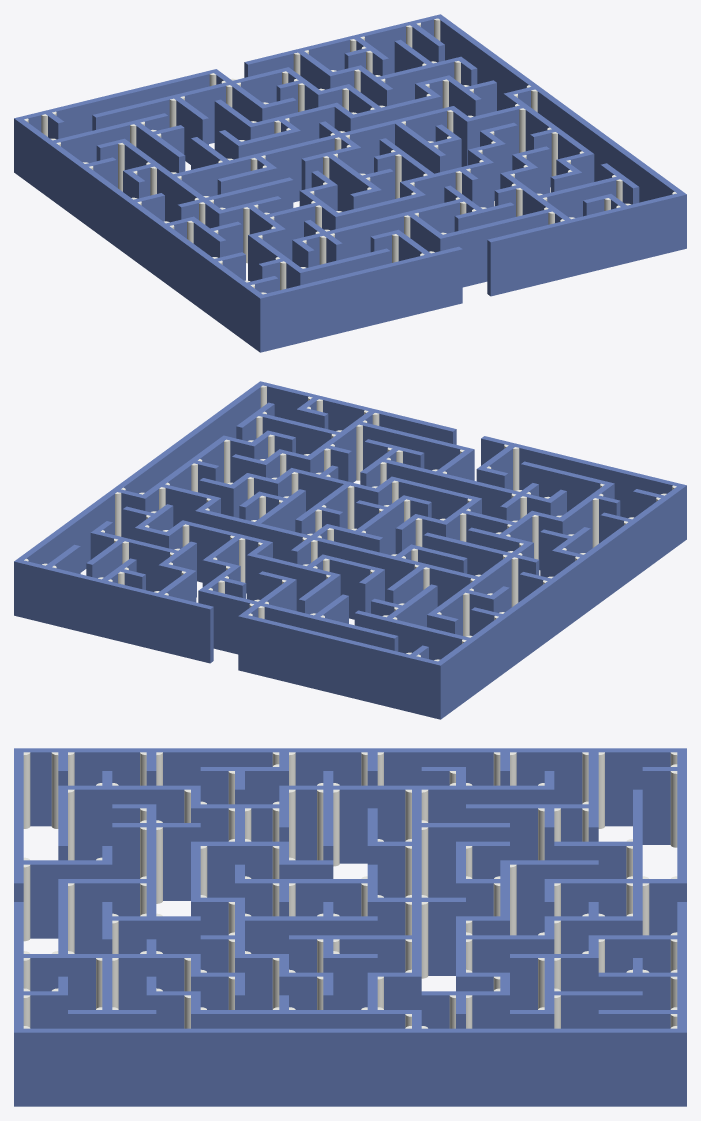
Rendered from maze v2.fbx.
The picture shows the model from 3 angles, top to bottom: view 1: azimuth 30°, elevation 25°; view 2: azimuth 150°, elevation 25°; view 3: azimuth 270°, elevation 25°; orthographic projection. The views are drawn at different scales.
Visible parts, largest first — view 1: Curve, Cube.002; view 2: Curve, Cube.002; view 3: Curve, Cube.002.
Part boxes in pixels (x1=…): Curve: x1=14, y1=14, x2=686, y2=352; Cube.002: x1=24, y1=18, x2=676, y2=294; Curve: x1=14, y1=381, x2=686, y2=719; Cube.002: x1=24, y1=385, x2=676, y2=661; Curve: x1=14, y1=748, x2=686, y2=1106; Cube.002: x1=23, y1=752, x2=677, y2=1028.
Bounding box in the file's own units: 825 × 100 × 825.
